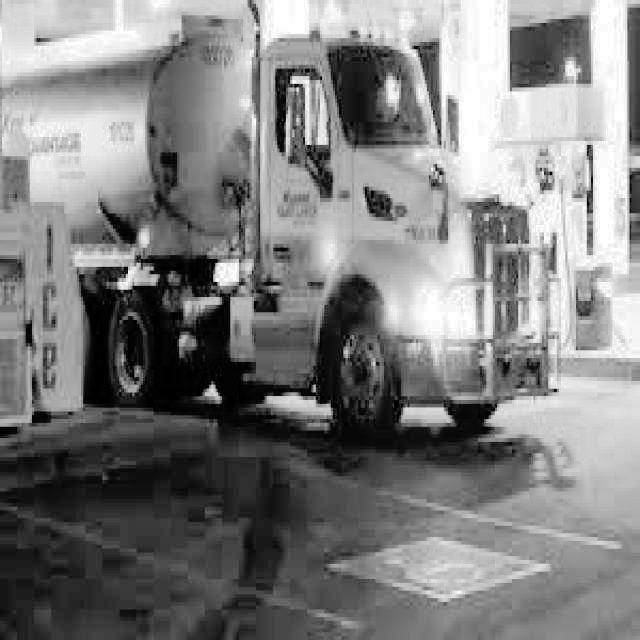Truck: (0, 0, 557, 442)
